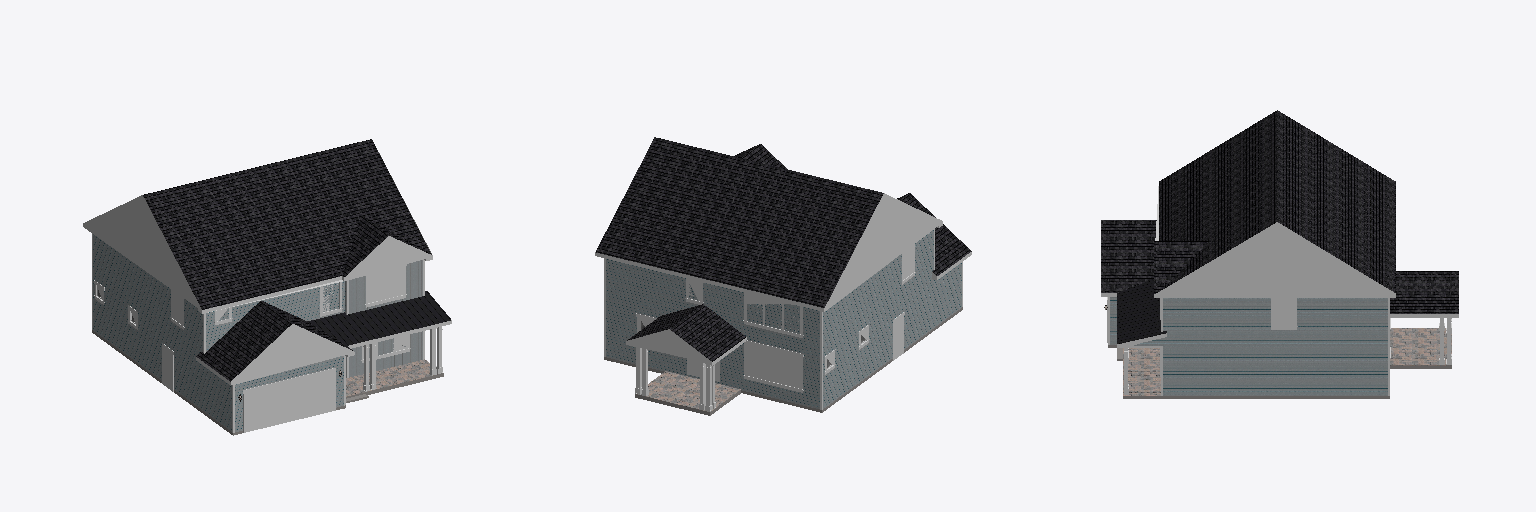
3 views of the same model, side by side, from view 1: azimuth 30°, elevation 25°; view 2: azimuth 150°, elevation 25°; view 3: azimuth 270°, elevation 25° (orthographic).
Parts seen in each view (by area): view 1: Mesh1 Model; view 2: Mesh1 Model; view 3: Mesh1 Model.
Boxes of the visible parts, <box> form: Mesh1 Model: <box>83,139,451,435</box>; Mesh1 Model: <box>595,137,971,415</box>; Mesh1 Model: <box>1101,110,1458,398</box>.
Size of the model in its own units: 510 by 383 by 688.
Materials: 37 (16 with a texture image).